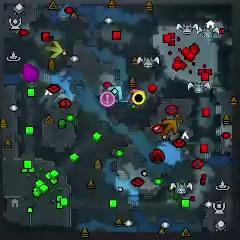Other: (100, 91, 115, 107)
p3: (22, 63, 39, 84)
p4Clone: (133, 91, 146, 105)
x1: (129, 88, 138, 106)
x2: (44, 41, 63, 59)
x3: (107, 85, 123, 102)
x5: (162, 119, 178, 136)
